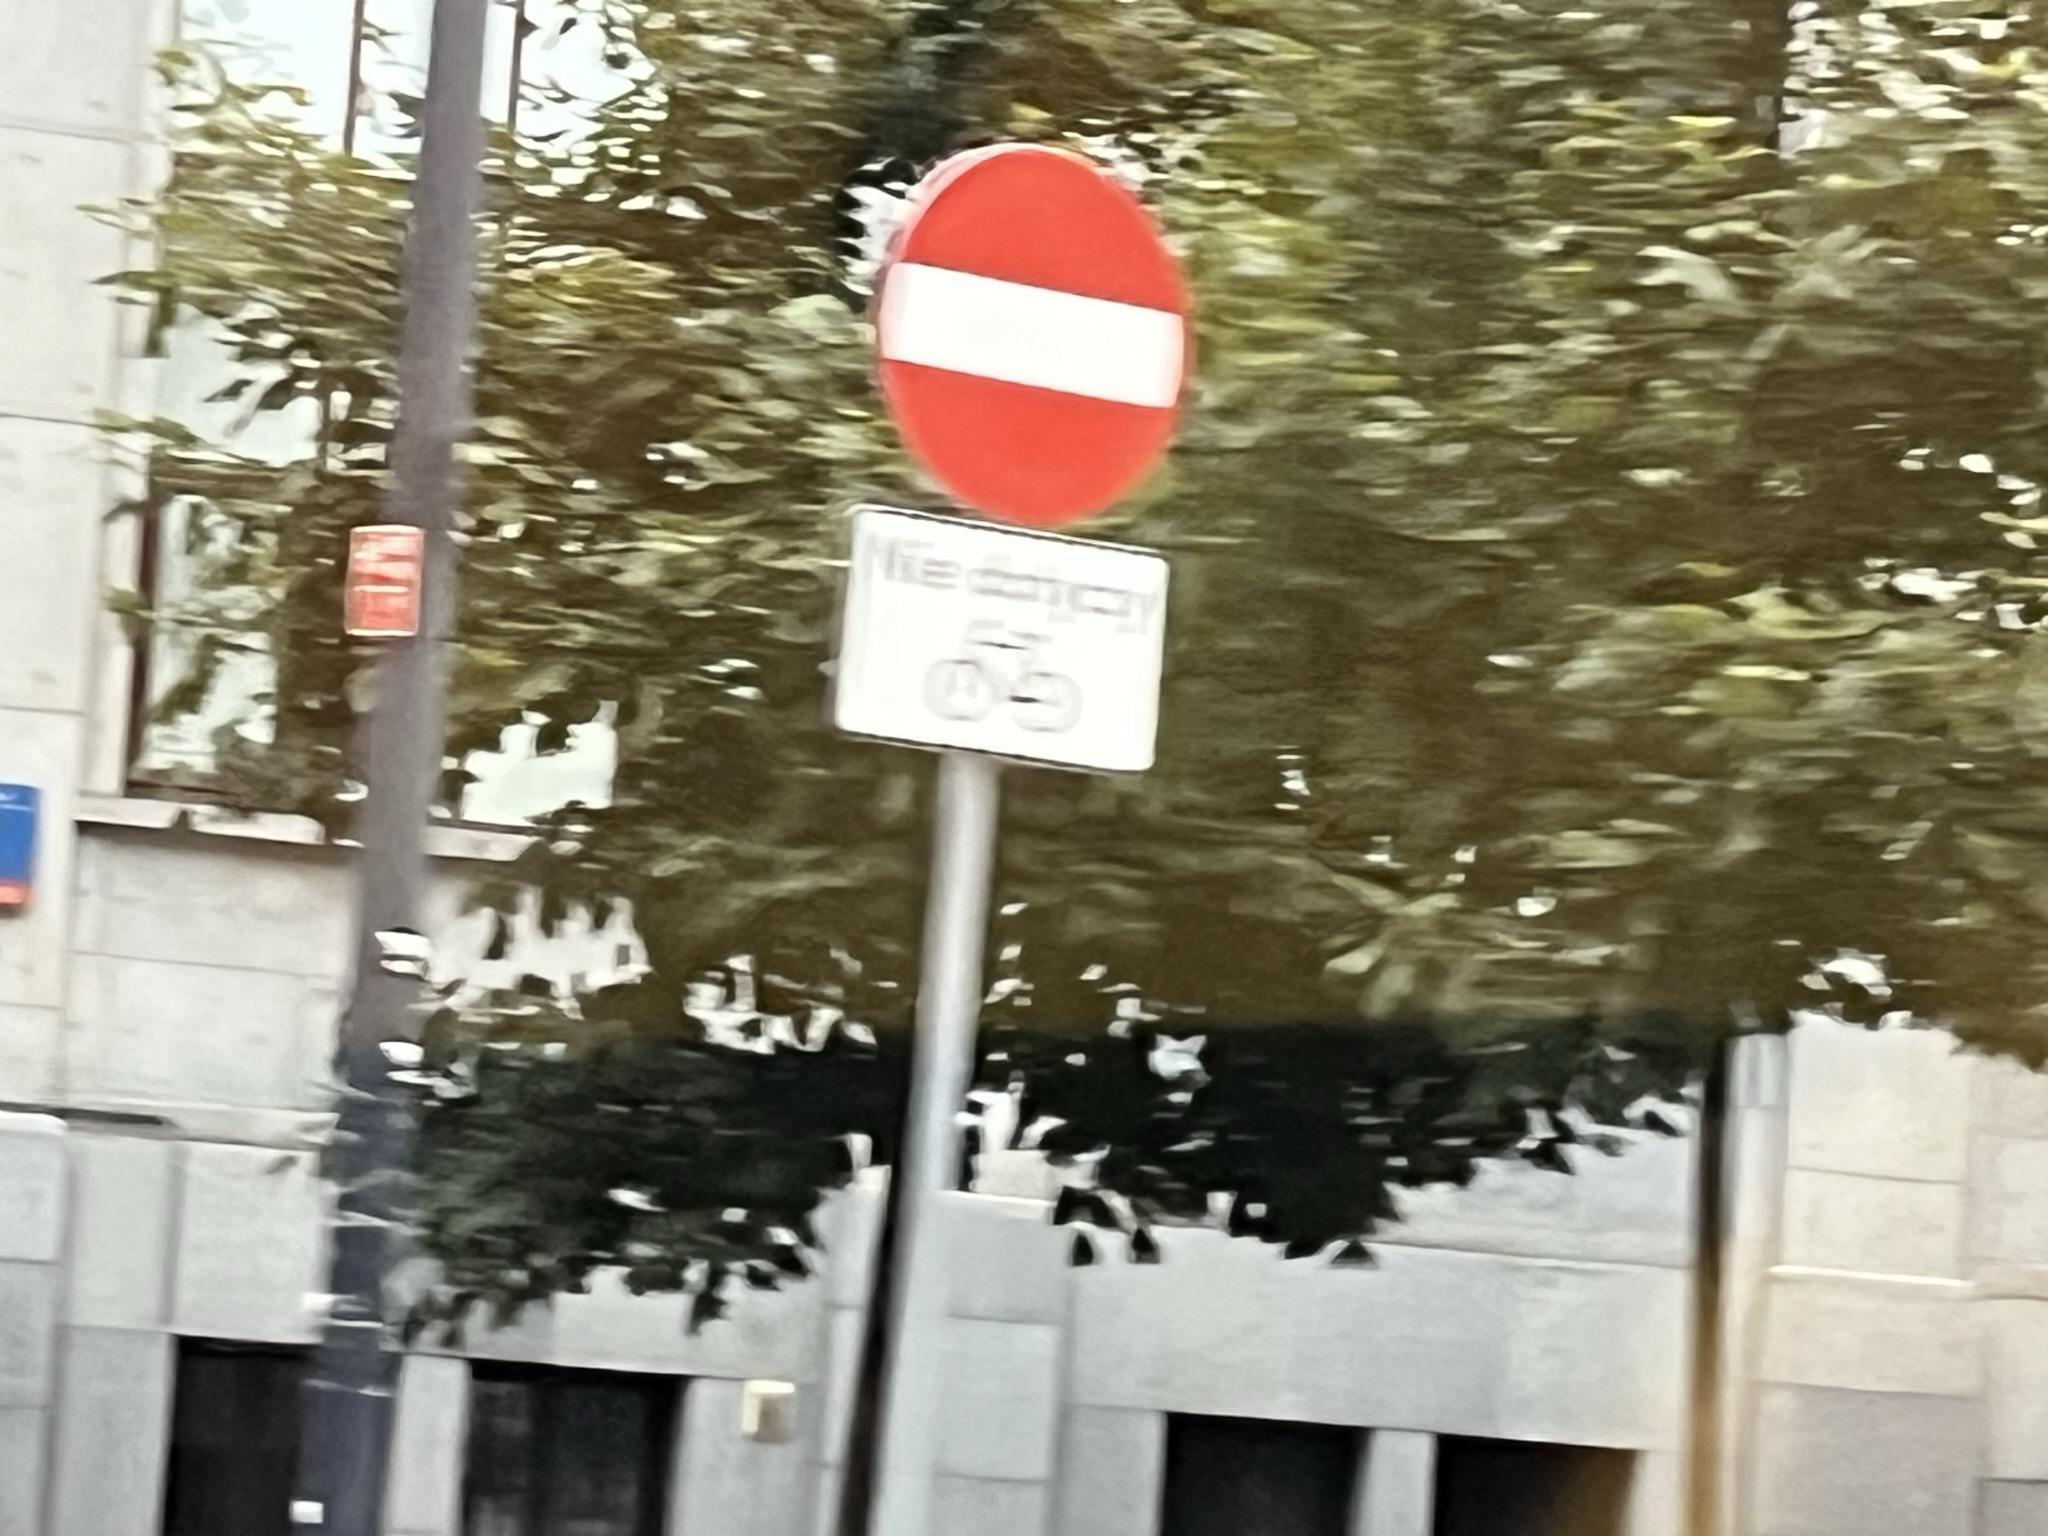other: (834, 503, 1171, 783)
prohibitory: (871, 140, 1190, 532)
